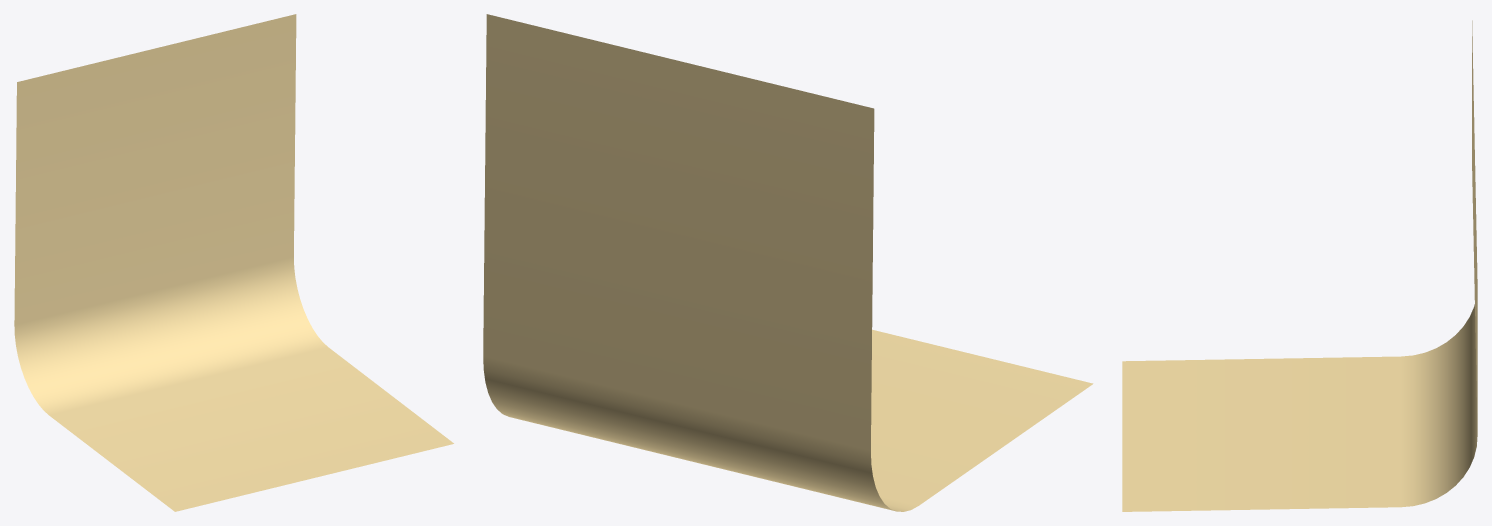
Rendered from curved_Plan.glb.
The picture shows the model from 3 angles, left to right: view 1: azimuth 30°, elevation 25°; view 2: azimuth 150°, elevation 25°; view 3: azimuth 270°, elevation 25°; orthographic projection. The views are drawn at different scales.
Visible parts, largest first — view 1: background; view 2: background; view 3: background.
Boxes of the visible parts, left/top/right/bottom form: background: left=14, top=14, right=453, bottom=511; background: left=483, top=14, right=1093, bottom=511; background: left=1122, top=20, right=1477, bottom=511.
Bounding box in the file's own units: 11.16 × 11.99 × 11.11.
